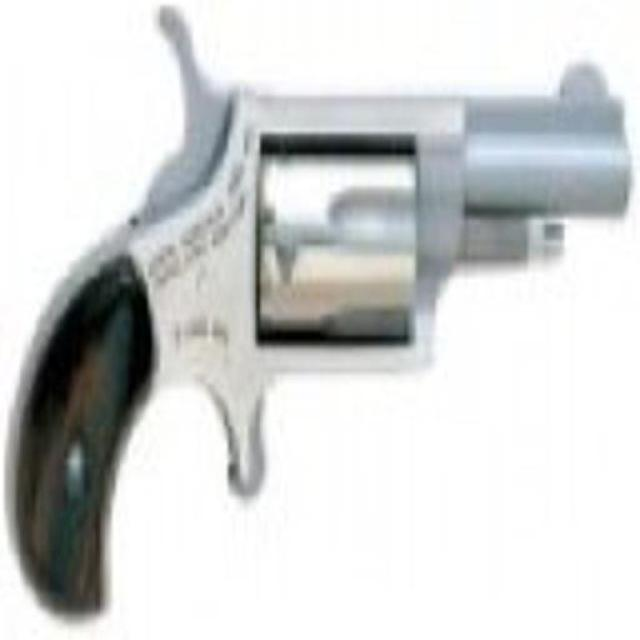pistol: (20, 5, 635, 612)
